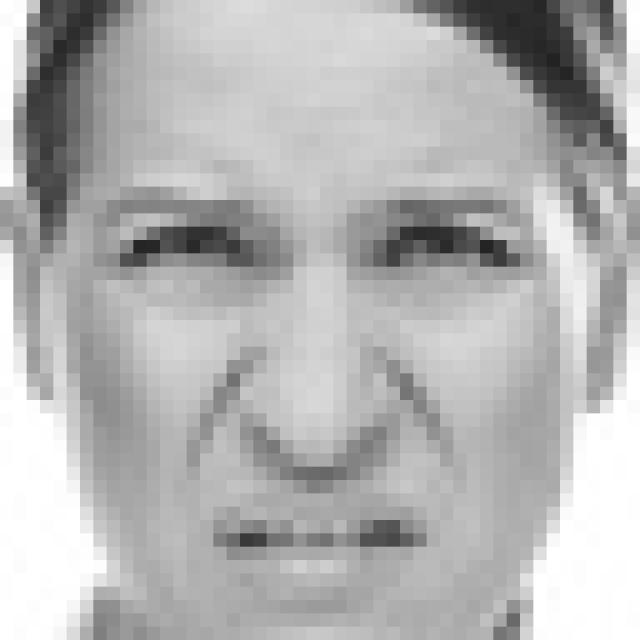disgust: (96, 182, 536, 605)
